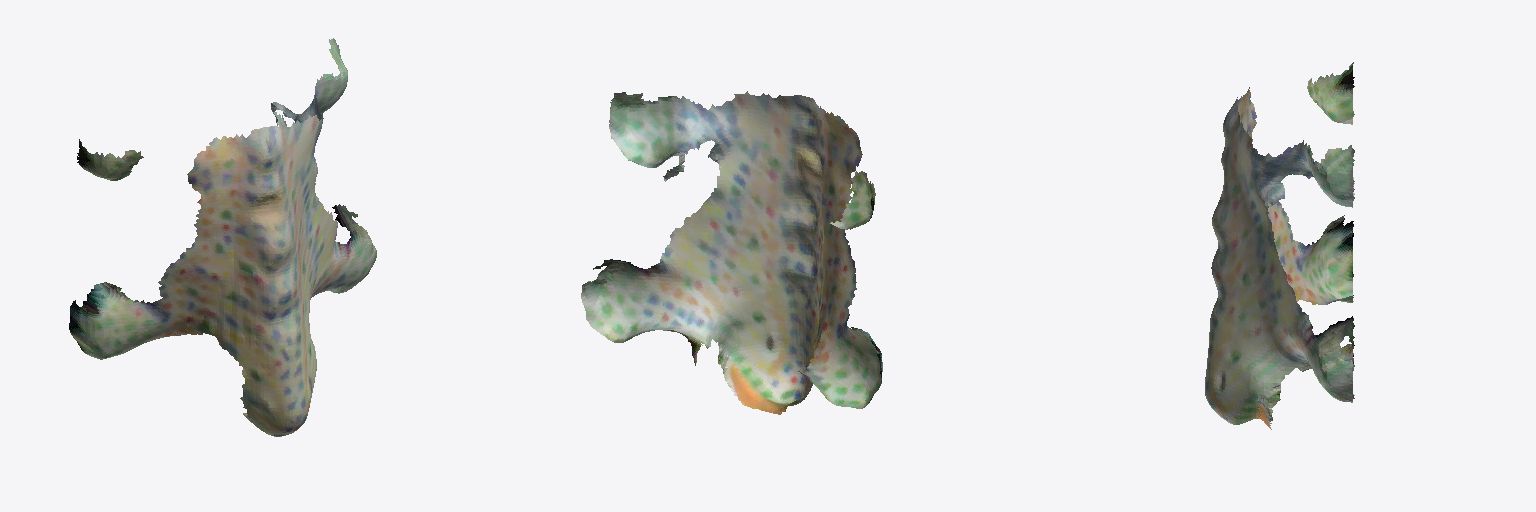
3 views of the same model, side by side, from view 1: azimuth 30°, elevation 25°; view 2: azimuth 150°, elevation 25°; view 3: azimuth 270°, elevation 25° (orthographic).
Bounding box in the file's own units: 94.83 × 98.92 × 41.09.
Materials: 1 (1 with a texture image).